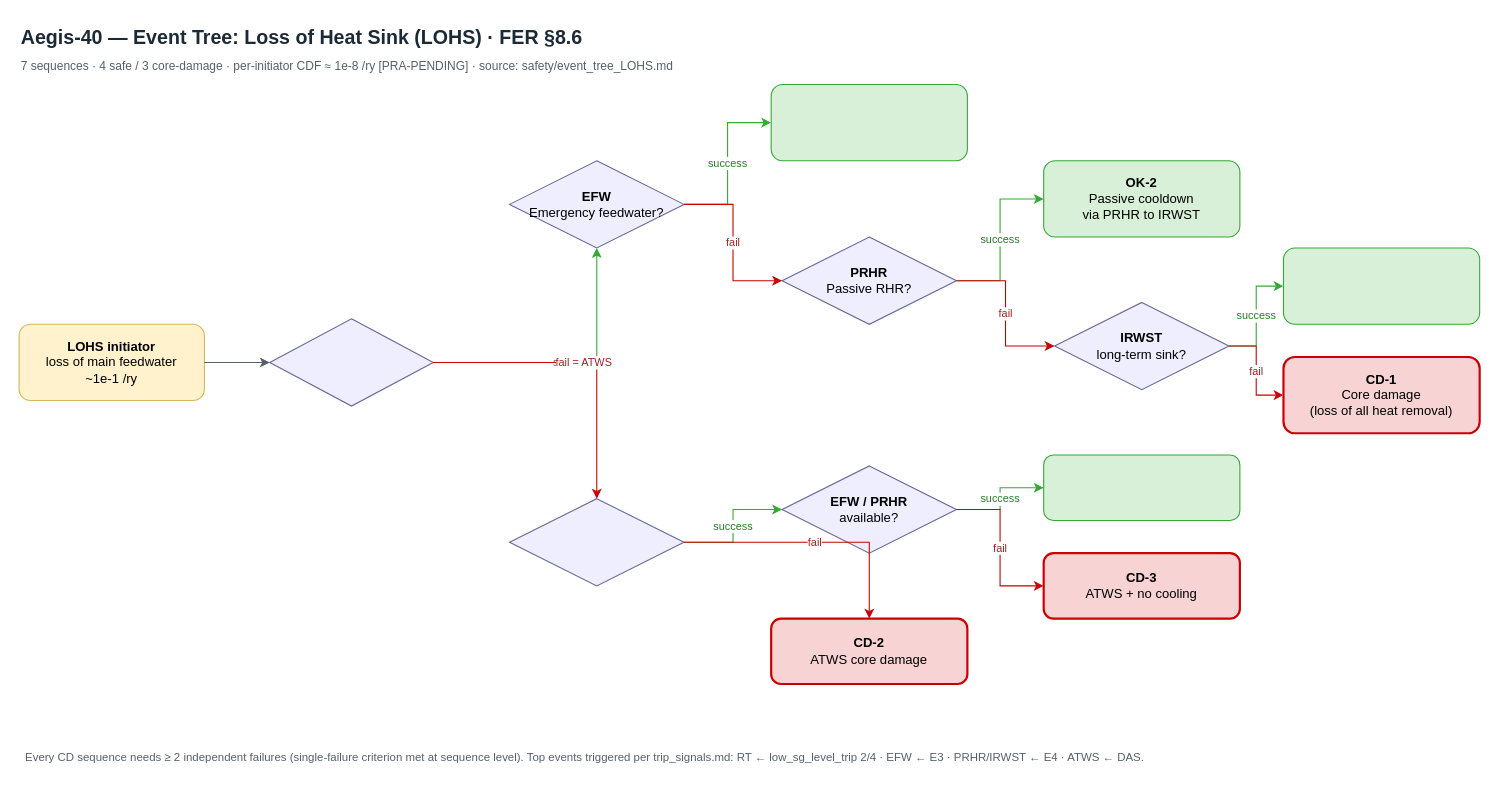
Some shapes in this 1500 by 800 pixel diagram are drawn without their labels. The centre of each missing label's shape, as x and y in pixels:
"Diverse shutdown? boration / DAS" belongs at point (596, 542).
"OK-1 Stable hot standby secondary heat sink" belongs at point (868, 122).
"OK-3 72 h+ passive cooling (needs makeup after)" belongs at point (1381, 285).
"OK-4 shutdown + cooled" belongs at point (1141, 487).
"RT Reactor trip?" belongs at point (351, 362).
